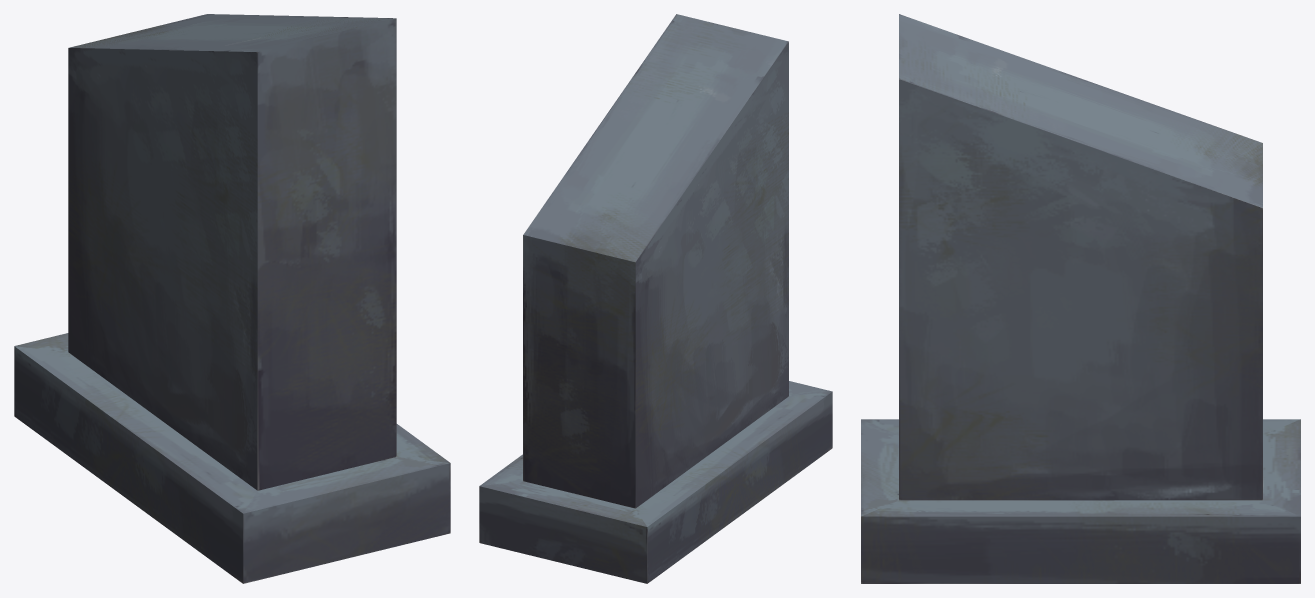
The model's file is Grave_church05.fbx.
3 renders of one model, left to right at view 1: azimuth 30°, elevation 25°; view 2: azimuth 150°, elevation 25°; view 3: azimuth 270°, elevation 25°, orthographic. The views are drawn at different scales.
Parts seen in each view (by area): view 1: Grave_church05; view 2: Grave_church05; view 3: Grave_church05.
Part boxes in pixels (left/top/right/bottom): Grave_church05: left=14, top=14, right=450, bottom=583; Grave_church05: left=479, top=14, right=832, bottom=583; Grave_church05: left=861, top=14, right=1300, bottom=583.
Size of the model in its own units: 0.2128 by 0.4986 by 0.4066.
Materials: 1 (1 with a texture image).
